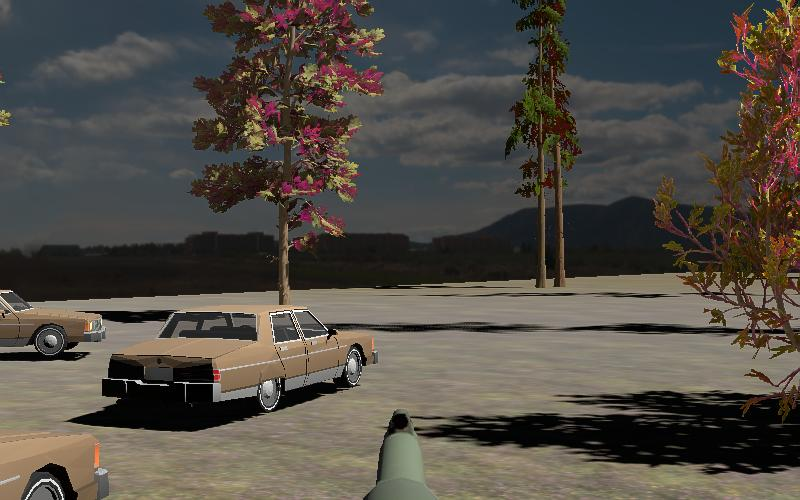car: (98, 303, 379, 415), (0, 394, 113, 500), (0, 283, 106, 361)
